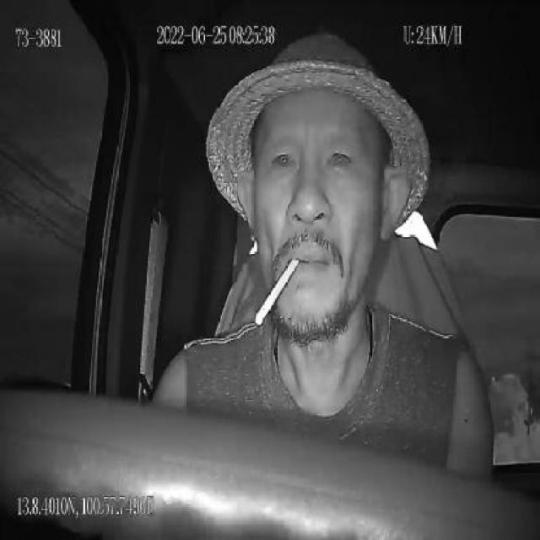smoking: (254, 258, 300, 322)
